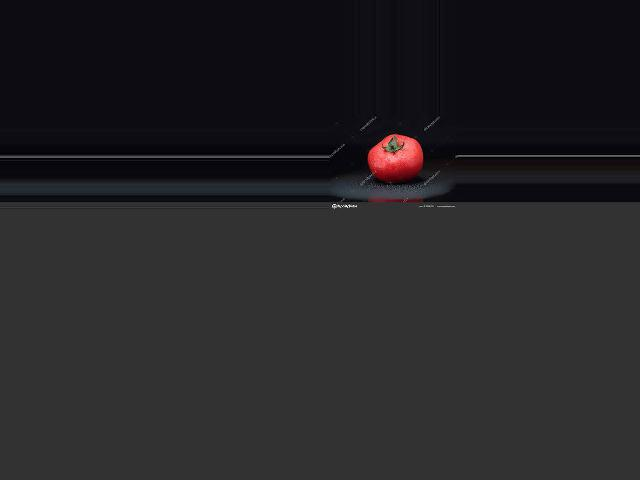tomato: (367, 133, 424, 182)
